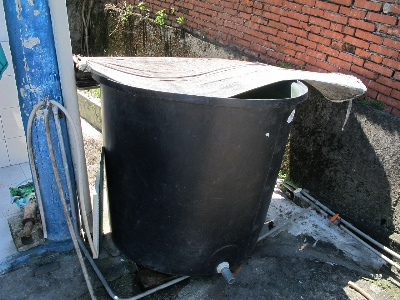bucket: (86, 69, 310, 280)
